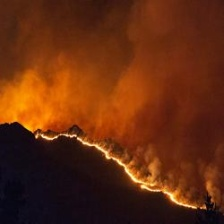fire: (39, 127, 219, 213)
smoke: (67, 5, 224, 103)
